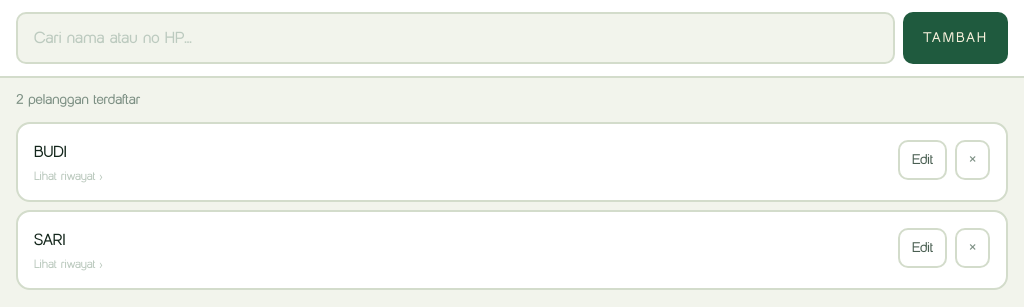
Test case: PelangganPage › filters by search query
The image size is (1024, 307).
Type "budi" into the field with placeholder "Cari nama atau no HP..." at (456, 38), box [16,12,895,64]
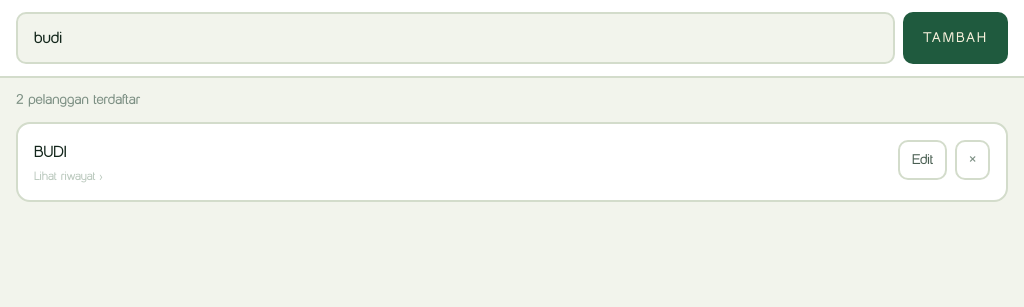
Check: the text "BUDI" is shown, box [34,142,67,161]
Check: the button "SARI" is gone
